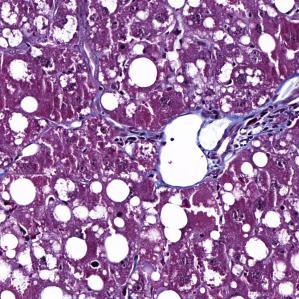fibrosis: (221, 107, 294, 144)
